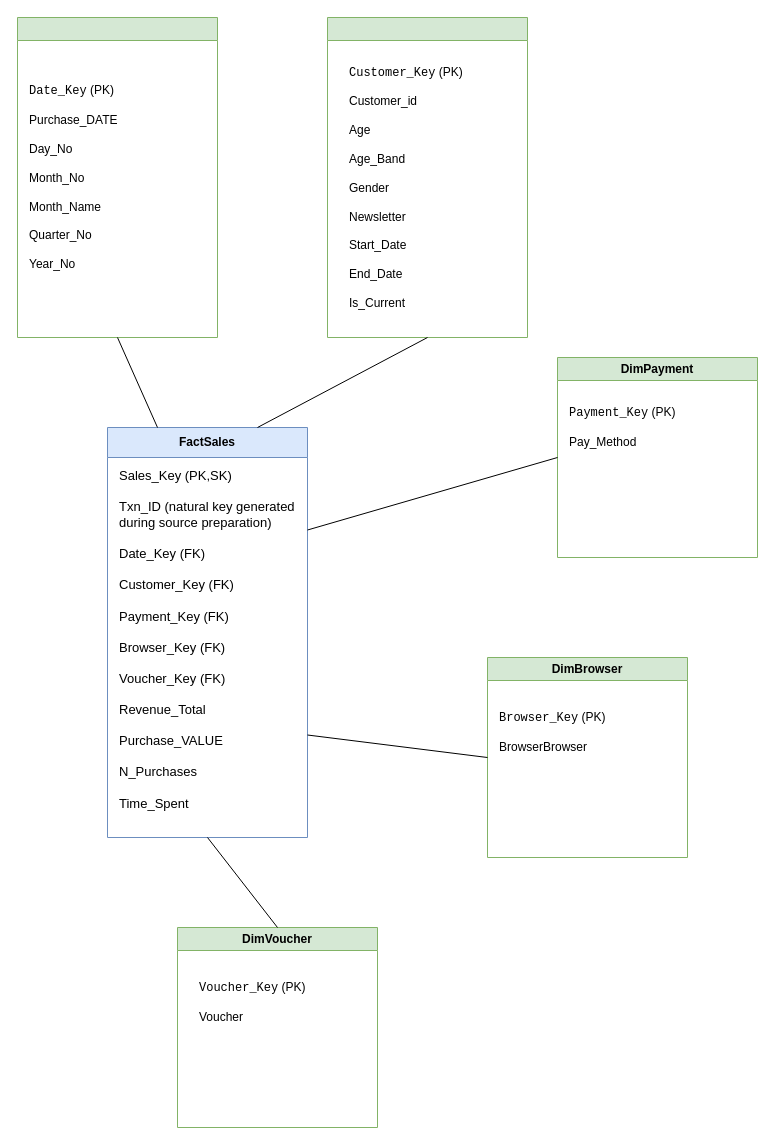
Some shapes in this 775 by 1145 pixel diagram are drawn without their labels. The box of each missing label's shape, as (x1, y1, x2, y2) in pixels:
DimCustomer: (326, 16, 528, 338)
DimDate: (16, 16, 218, 338)
